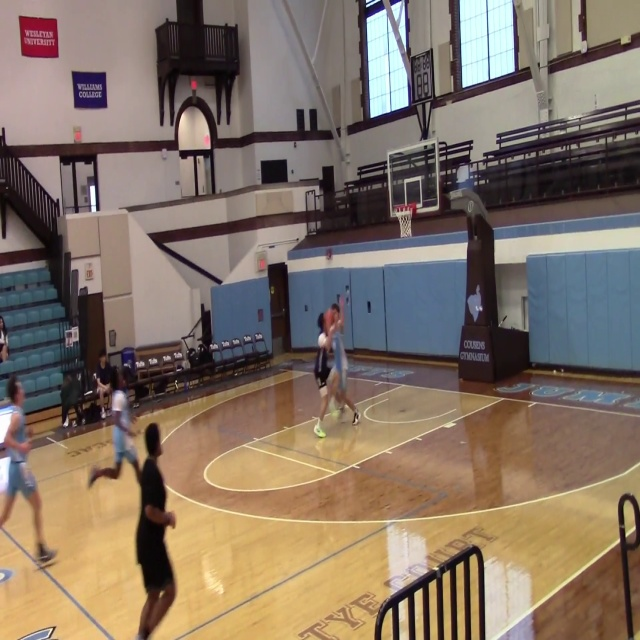Basketball: (317, 333, 329, 348)
